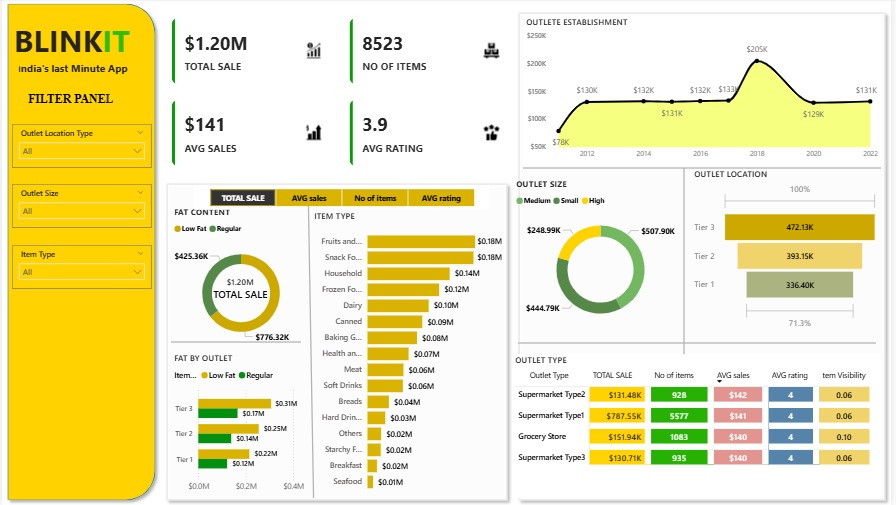

This screenshot's page, from the dashboard's own definition file:
{"tool":"powerbi","page":{"name":"Page 1","canvas":[1400,800],"ordinal":0},"visuals":[{"type":"shape","box":[0,0,250.4,800],"z":0},{"type":"textbox","box":[0,28.3,220.5,83.5],"z":1000},{"type":"textbox","box":[20.5,94.5,200,55.1],"z":2000},{"type":"cardVisual","fields":{"Data":["BlinkIT Grocery Data.TOTAL SALE","BlinkIT Grocery Data.No of items","BlinkIT Grocery Data.AVG sales","BlinkIT Grocery Data.AVG rating"]},"box":[250.4,14.2,570.1,269.3],"z":3000},{"type":"shape","box":[250.4,283.5,554.3,516.5],"z":4000},{"type":"donutChart","title":"FAT CONTENT","fields":{"Y":["BlinkIT Grocery Data.TOTAL SALE"],"Category":["BlinkIT Grocery Data.Item Fat Content"]},"box":[266.1,327.6,220.5,229.9],"z":5000},{"type":"slicer","fields":{"Values":["Metrics.Metrics"]},"box":[302.4,294.5,464.6,39.4],"z":6000},{"type":"cardVisual","fields":{"Data":["BlinkIT Grocery Data.TOTAL SALE"]},"box":[302.4,400,146.5,115],"z":7000},{"type":"clusteredBarChart","title":"FAT BY OUTLET","fields":{"Y":["BlinkIT Grocery Data.TOTAL SALE"],"Series":["BlinkIT Grocery Data.Item Fat Content"],"Category":["BlinkIT Grocery Data.Outlet Location Type"]},"box":[266.1,557.5,220.5,229.9],"z":8000},{"type":"shape","box":[266.1,526,204.7,31.5],"z":9000},{"type":"shape","box":[480.3,327.6,12.6,459.8],"z":10000},{"type":"barChart","title":"ITEM TYPE","fields":{"Y":["BlinkIT Grocery Data.TOTAL SALE"],"Category":["BlinkIT Grocery Data.Item Type"]},"box":[486.6,333.9,305.5,453.5],"z":11000},{"type":"shape","box":[804.7,14.2,595.3,785.8],"z":12000},{"type":"lineChart","title":"OUTLETE ESTABLISHMENT","fields":{"Y":["BlinkIT Grocery Data.TOTAL SALE"],"Category":["BlinkIT Grocery Data.Outlet Establishment Year"]},"box":[820.5,28.3,563.8,234.6],"z":13000},{"type":"shape","box":[820.5,252,563.8,31.5],"z":14000},{"type":"donutChart","title":"OUTLET SIZE","fields":{"Y":["BlinkIT Grocery Data.TOTAL SALE"],"Category":["BlinkIT Grocery Data.Outlet Size"]},"box":[804.7,283.5,275.6,244.1],"z":15000},{"type":"shape","box":[1067.7,267.7,12.6,519.7],"z":16000},{"type":"funnel","title":"OUTLET LOCATION","fields":{"Y":["Sum(BlinkIT Grocery Data.Sales)"],"Category":["BlinkIT Grocery Data.Outlet Location Type"]},"box":[1085,267.7,299.2,259.8],"z":17000},{"type":"shape","box":[812.6,527.6,563.8,31.5],"z":18000},{"type":"pivotTable","title":"OUTLET TYPE","fields":{"Rows":["BlinkIT Grocery Data.Outlet Type"],"Values":["BlinkIT Grocery Data.TOTAL SALE","BlinkIT Grocery Data.No of items","BlinkIT Grocery Data.AVG sales","BlinkIT Grocery Data.AVG rating","Avg(BlinkIT Grocery Data.Item Visibility)"]},"box":[803.1,560.6,581.1,226.8],"z":19000},{"type":"slicer","fields":{"Values":["BlinkIT Grocery Data.Outlet Location Type"]},"box":[15.7,198.4,220.5,69.3],"z":19001},{"type":"slicer","fields":{"Values":["BlinkIT Grocery Data.Outlet Size"]},"box":[15.7,292.9,220.5,69.3],"z":19002},{"type":"slicer","fields":{"Values":["BlinkIT Grocery Data.Item Type"]},"box":[15.7,389,220.5,69.3],"z":19003},{"type":"textbox","box":[36.2,143.3,165.4,39.4],"z":19004}]}

Visuals, with their boxes in screenshot pixels (x1, y1, x2, y2), scaled from the page's 1400x800 canvas onto the 896x505 screenshot:
shape: (0,0,160,504)
textbox: (0,18,141,71)
textbox: (13,60,141,94)
cardVisual - BlinkIT Grocery Data.TOTAL SALE x BlinkIT Grocery Data.No of items: (160,9,525,179)
shape: (160,179,515,504)
"FAT CONTENT" donutChart: (170,207,311,352)
slicer - Metrics.Metrics: (194,186,491,211)
cardVisual - BlinkIT Grocery Data.TOTAL SALE: (194,252,287,325)
"FAT BY OUTLET" clusteredBarChart: (170,352,311,497)
shape: (170,332,301,352)
shape: (307,207,315,497)
"ITEM TYPE" barChart: (311,211,507,497)
shape: (515,9,895,504)
"OUTLETE ESTABLISHMENT" lineChart: (525,18,886,166)
shape: (525,159,886,179)
"OUTLET SIZE" donutChart: (515,179,691,333)
shape: (683,169,691,497)
"OUTLET LOCATION" funnel: (694,169,886,333)
shape: (520,333,881,353)
"OUTLET TYPE" pivotTable: (514,354,886,497)
slicer - BlinkIT Grocery Data.Outlet Location Type: (10,125,151,169)
slicer - BlinkIT Grocery Data.Outlet Size: (10,185,151,229)
slicer - BlinkIT Grocery Data.Item Type: (10,246,151,289)
textbox: (23,90,129,115)
